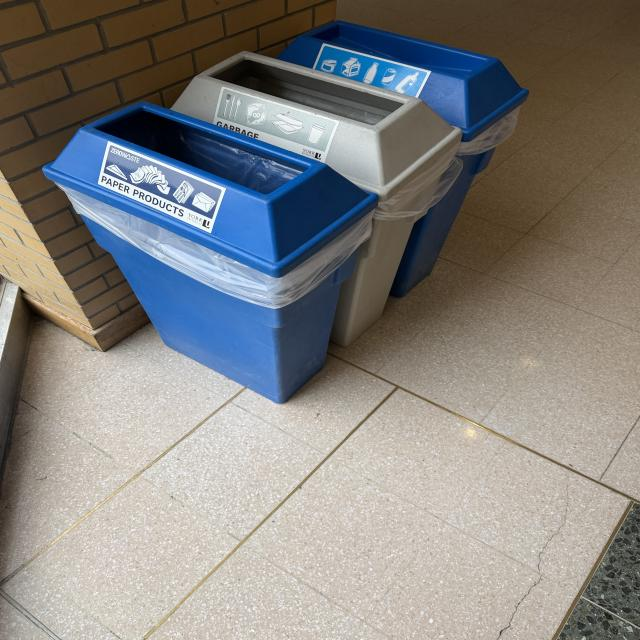Dustbin: (39, 18, 530, 404)
